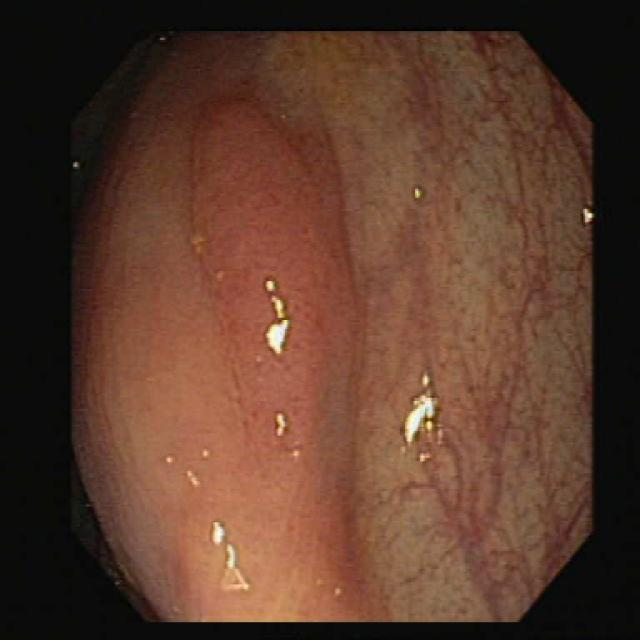tumor: (192, 98, 362, 483)
